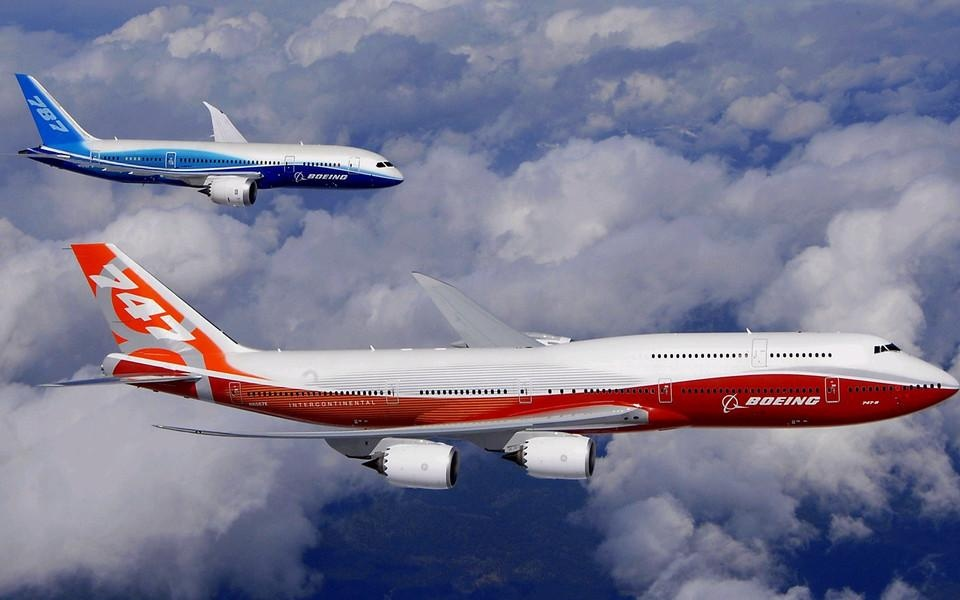airplane: (54, 229, 960, 490), (13, 69, 414, 201)
